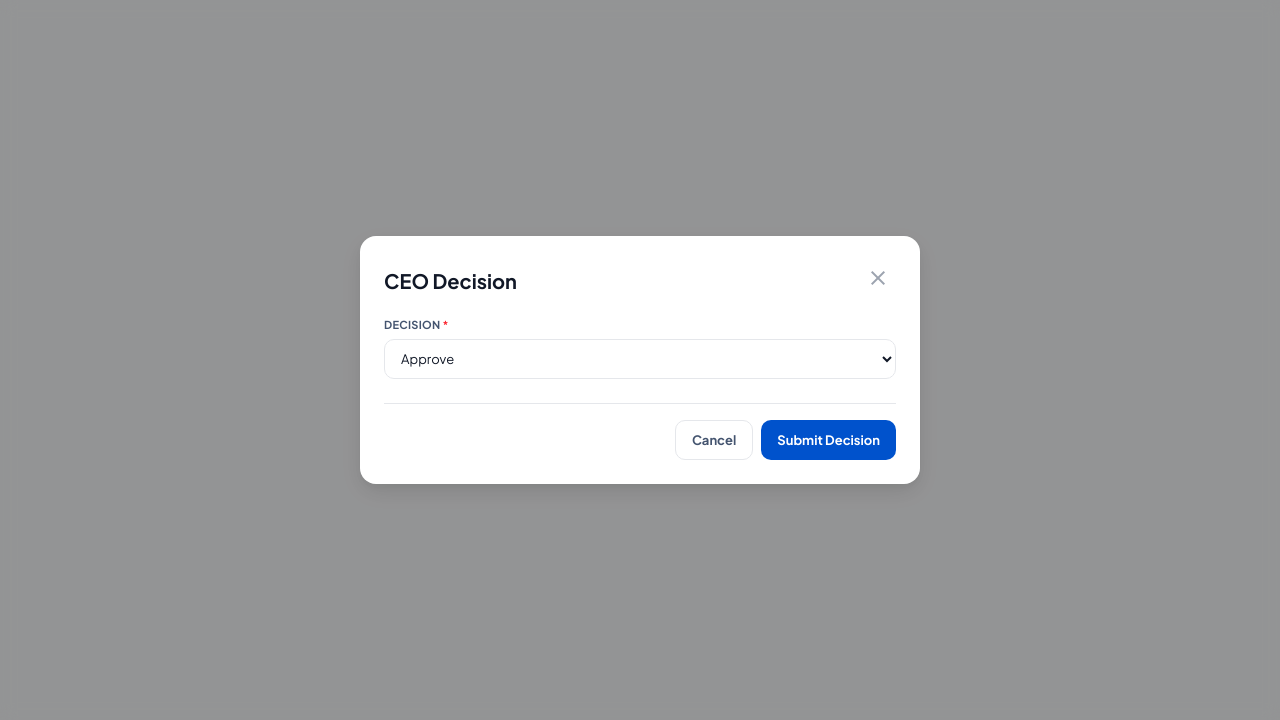
Test: WorkflowActionModal error reporting › shows the server message when an API error has no error property
Click the button "Submit Decision".
click(829, 440)  # box [761, 420, 896, 460]
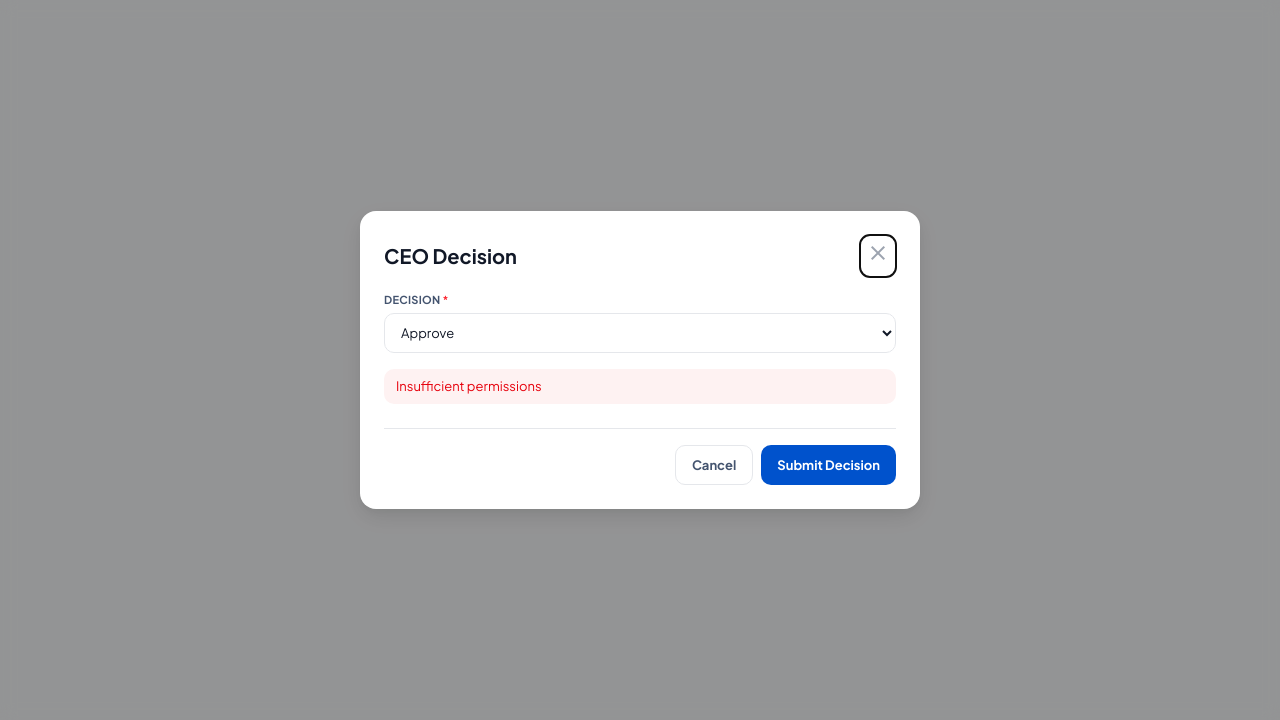
Expected: the text "Insufficient permissions" is shown, [384, 369, 896, 404]
